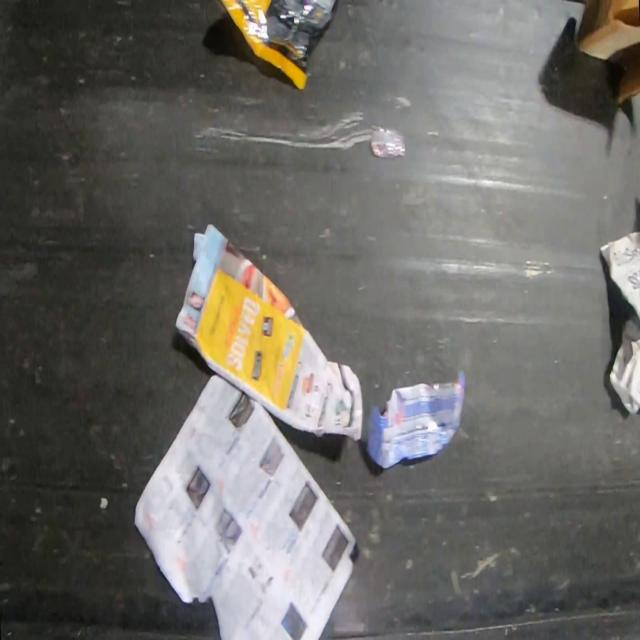cardboard: (176, 222, 364, 440), (573, 0, 639, 108)
soft_plastic: (358, 367, 467, 470), (219, 0, 336, 92)
